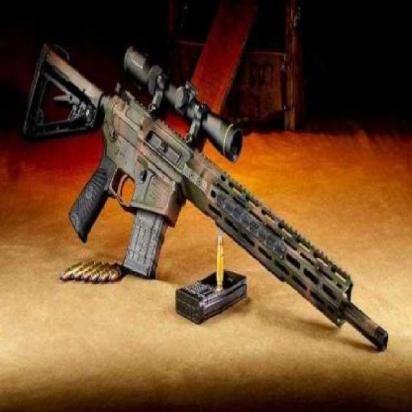Gun: (25, 44, 356, 330)
